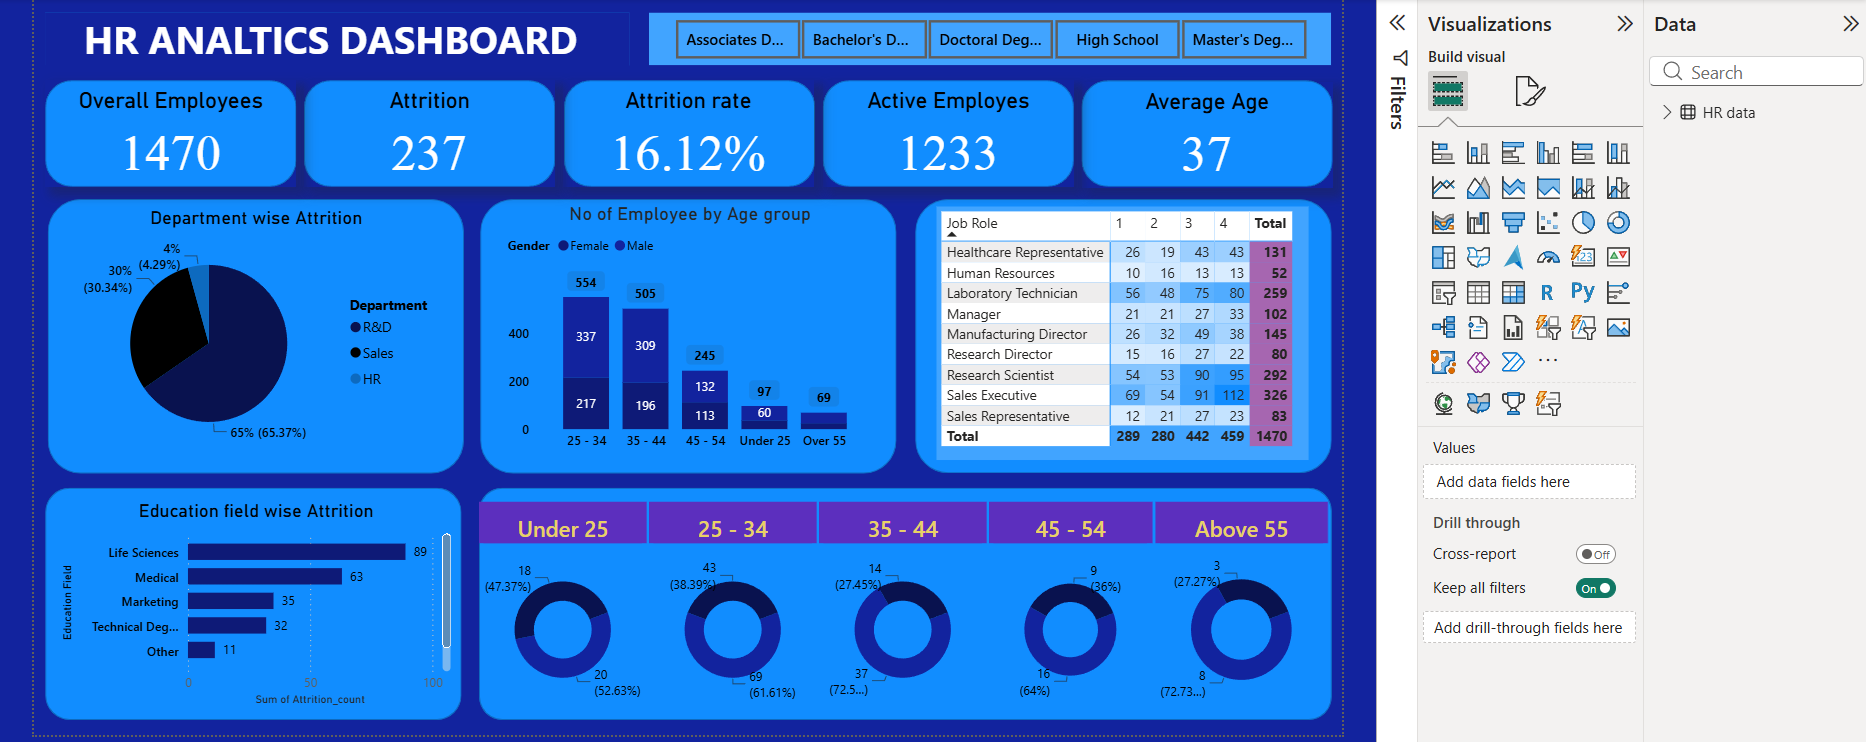

Layout of this report page (visuals, bound fields, positions):
{"tool":"powerbi","page":{"name":"Page 1","canvas":[1280,720],"ordinal":0},"visuals":[{"type":"shape","box":[11.4,80,245.7,104.3],"z":0},{"type":"shape","box":[11.4,12.9,571.4,51.4],"z":1000},{"type":"shape","box":[264.3,80,245.7,104.3],"z":2000},{"type":"shape","box":[518.6,80,245.7,104.3],"z":3000},{"type":"shape","box":[771.4,80,245.7,104.3],"z":4000},{"type":"shape","box":[1024.3,80,245.7,104.3],"z":5000},{"type":"slicer","fields":{"Values":["HR data.Education"]},"box":[601.4,12.9,667,51.4],"z":6000},{"type":"shape","box":[12.9,195.7,407.1,268.6],"z":7000},{"type":"shape","box":[435.7,478.6,834.3,227.1],"z":8000},{"type":"shape","box":[11.4,478.6,407.1,227.1],"z":9000},{"type":"shape","box":[437.1,195.7,407.1,268.6],"z":10000},{"type":"shape","box":[862.3,195.4,407.5,268.3],"z":11000},{"type":"pieChart","title":"Department wise Attrition","fields":{"Y":["CountNonNull(HR data.Attrition)"],"Category":["HR data.Department"]},"box":[29.3,203,374.2,242.1],"z":12000},{"type":"cardVisual","title":"Overall Employees","fields":{"Data":["Sum(HR data.Employee Count)"]},"box":[11,79.5,245.8,103.9],"z":13000},{"type":"textbox","box":[11,13.5,571.1,52.6],"z":14000},{"type":"cardVisual","title":"Attrition","fields":{"Data":["Sum(HR data.Attrition_count)"]},"box":[264.1,79.5,245.8,103.9],"z":15000},{"type":"cardVisual","title":"Attrition rate","fields":{"Data":["HR data.Attrition_rate"]},"box":[517.3,79.5,245.8,103.9],"z":16000},{"type":"cardVisual","title":"Active Employes","fields":{"Data":["HR data.Active_employees"]},"box":[771.6,79.5,245.8,103.9],"z":17000},{"type":"cardVisual","title":"Average Age ","fields":{"Data":["Avg(HR data.Age)"]},"box":[1024.7,80.7,245.8,103.9],"z":18000},{"type":"columnChart","title":"No of Employee by Age group","fields":{"Y":["CountNonNull(HR data.Gender)"],"Category":["HR data.CF_age band"],"Series":["HR data.Gender"]},"box":[458.6,199.3,366.6,251.7],"z":19000},{"type":"barChart","title":"Education field wise Attrition","fields":{"Category":["HR data.Education Field"],"Y":["Sum(HR data.Attrition_count)"]},"box":[21.7,490.5,390.9,205.7],"z":20000},{"type":"pivotTable","fields":{"Rows":["HR data.Job Role"],"Columns":["HR data.Job Satisfaction"],"Values":["Sum(HR data.Employee Count)"]},"box":[882.7,203.1,364.1,247.8],"z":21000},{"type":"donutChart","title":"Under 25","fields":{"Category":["HR data.Gender"],"Y":["Sum(HR data.Attrition_count)"],"Series":["HR data.CF_age band"]},"box":[435.9,491.1,164.2,214.9],"z":22000},{"type":"donutChart","title":"25 - 34","fields":{"Category":["HR data.Gender"],"Y":["Sum(HR data.Attrition_count)"],"Series":["HR data.CF_age band"]},"box":[601.6,491.1,164.2,214.9],"z":23000},{"type":"donutChart","title":"35 - 44","fields":{"Category":["HR data.Gender"],"Y":["Sum(HR data.Attrition_count)"],"Series":["HR data.CF_age band"]},"box":[767.4,491.1,164.2,214.9],"z":24000},{"type":"donutChart","title":"45 - 54","fields":{"Category":["HR data.Gender"],"Y":["Sum(HR data.Attrition_count)"],"Series":["HR data.CF_age band"]},"box":[934.7,491.1,159.6,214.9],"z":25000},{"type":"donutChart","title":"Above 55","fields":{"Category":["HR data.Gender"],"Y":["Sum(HR data.Attrition_count)"],"Series":["HR data.CF_age band"]},"box":[1097.4,491.1,168.8,214.9],"z":26000}]}

Visuals, with their boxes in screenshot pixels (x1, y1, x2, y2):
shape: 41/75/301/185
shape: 41/4/644/58
shape: 308/75/568/185
shape: 577/75/836/185
shape: 844/75/1103/185
shape: 1111/75/1370/185
slicer - HR data.Education: 664/4/1368/58
shape: 43/197/473/480
shape: 489/496/1370/735
shape: 41/496/471/735
shape: 491/197/920/480
shape: 940/197/1370/480
"Department wise Attrition" pieChart: 60/205/455/460
"Overall Employees" cardVisual: 41/74/300/184
textbox: 41/5/644/60
"Attrition" cardVisual: 308/74/567/184
"Attrition rate" cardVisual: 575/74/835/184
"Active Employes" cardVisual: 844/74/1103/184
"Average Age " cardVisual: 1111/75/1371/185
"No of Employee by Age group" columnChart: 513/201/900/466
"Education field wise Attrition" barChart: 52/508/465/725
pivotTable - HR data.Job Role x HR data.Job Satisfaction: 961/205/1345/466
"Under 25" donutChart: 489/509/663/736
"25 - 34" donutChart: 664/509/838/736
"35 - 44" donutChart: 839/509/1013/736
"45 - 54" donutChart: 1016/509/1184/736
"Above 55" donutChart: 1188/509/1366/736
